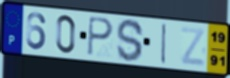0: (55, 14, 77, 55)
6: (26, 12, 47, 52)
I: (160, 22, 168, 65)
P: (87, 15, 115, 58)
S: (115, 18, 145, 64)
Z: (179, 25, 207, 68)
